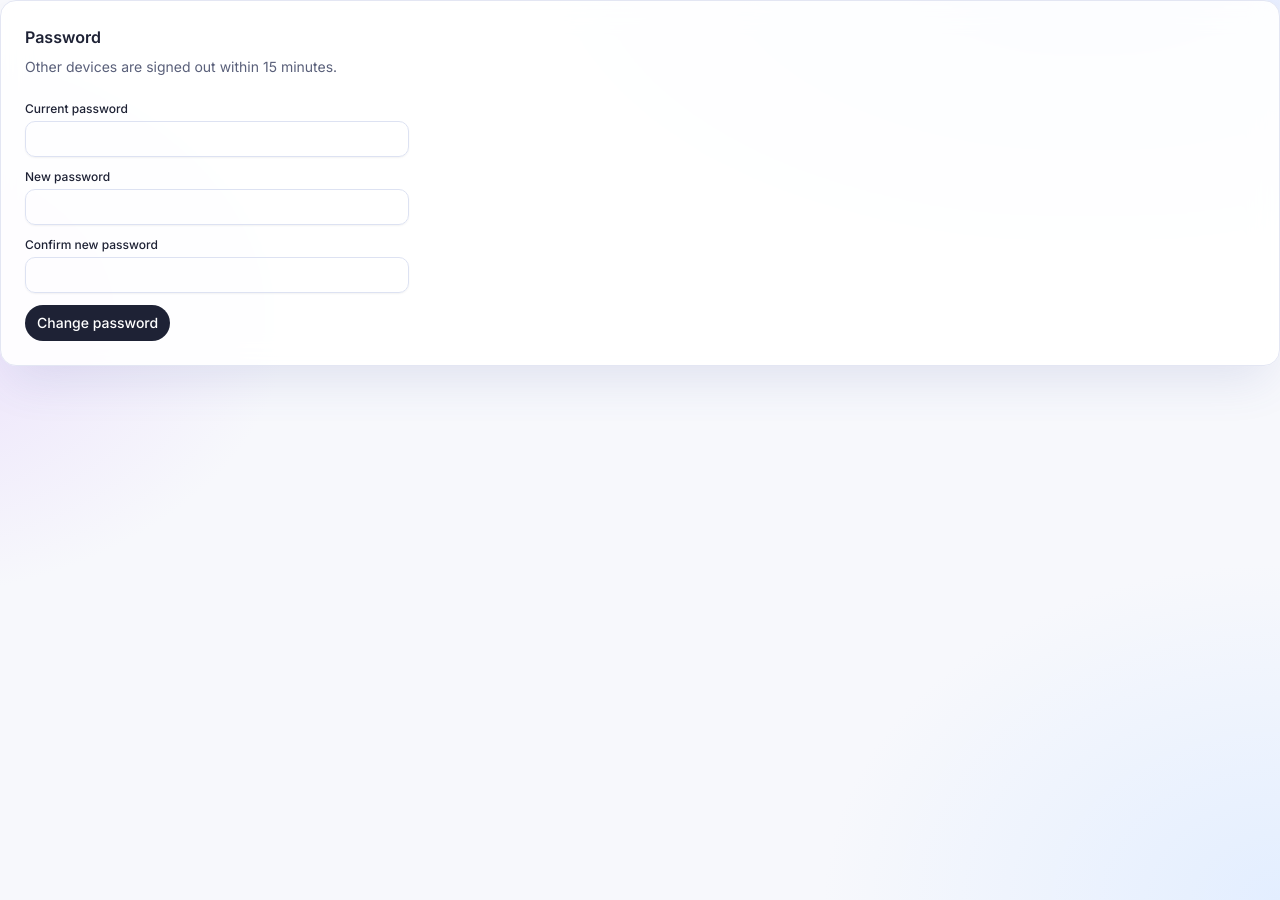
Test: PasswordCard › validates locally before sending (new-password-12)
Type "old-password-1" into the password field labelled "Current password".
click(217, 139); type("old-password-1")  # box x1=25 y1=121 x2=409 y2=157
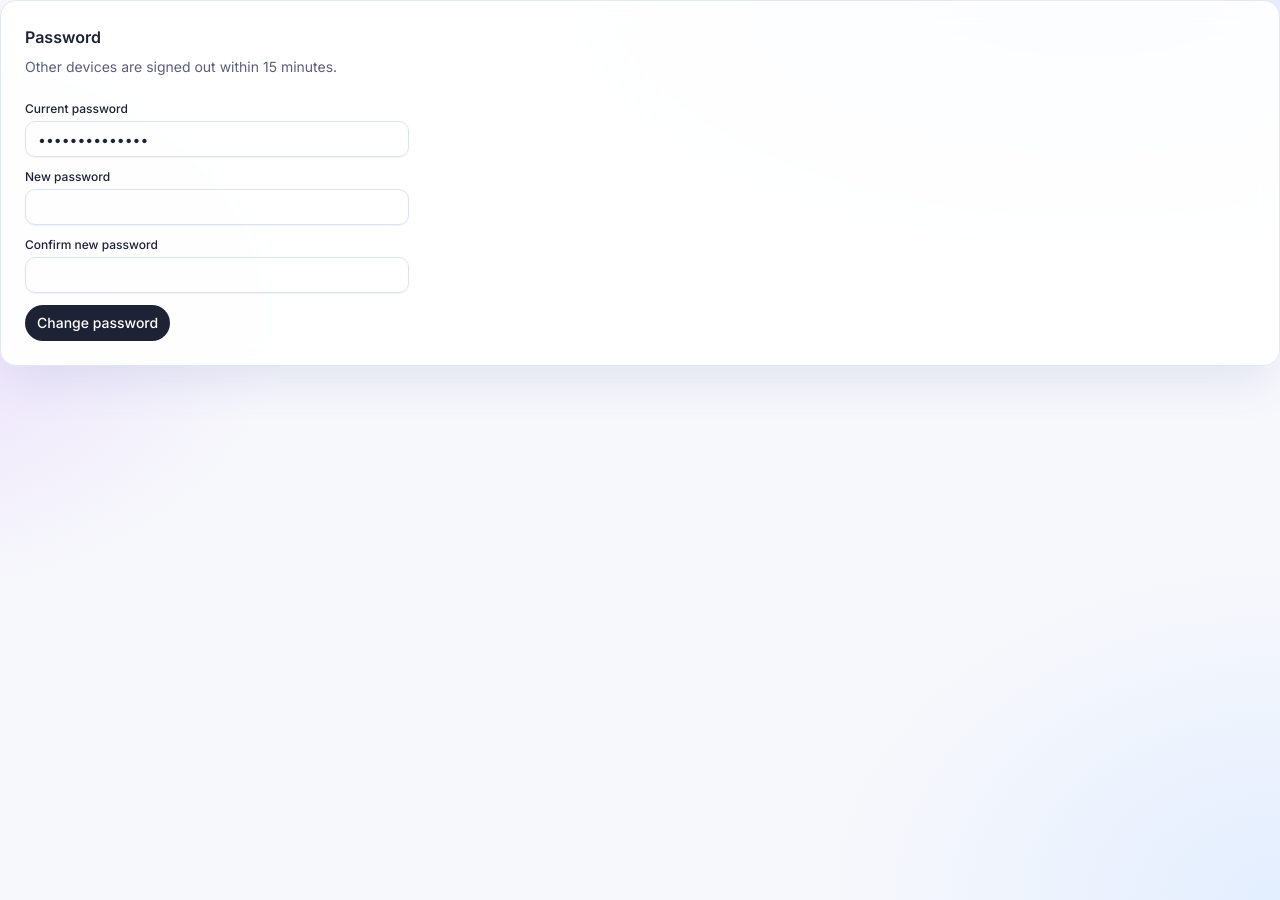
Type "new-password-12" into the password field labelled "New password".
click(217, 207); type("new-password-12")  # box x1=25 y1=189 x2=409 y2=225
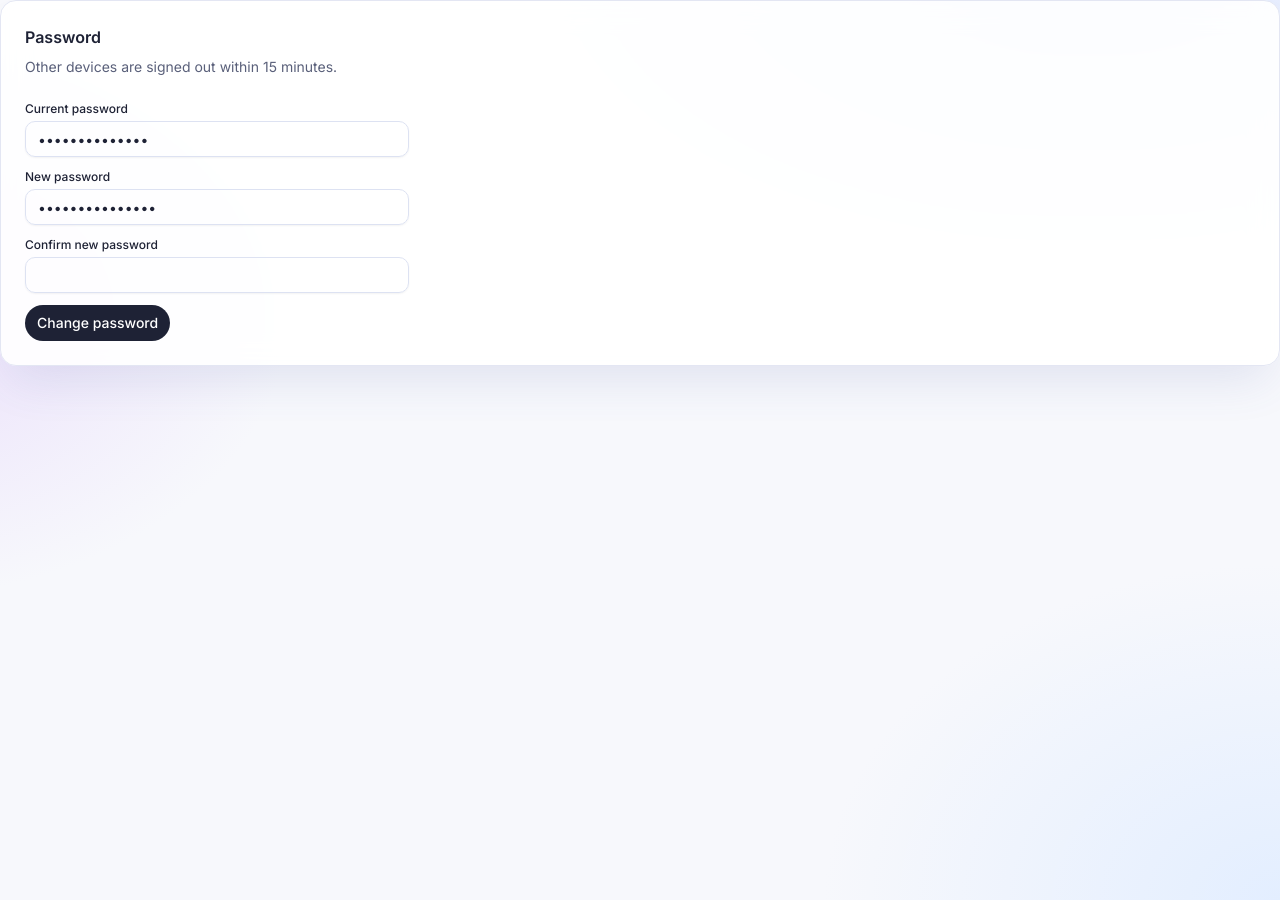
Type "new-password-13" into the password field labelled "Confirm new password".
click(217, 275); type("new-password-13")  # box x1=25 y1=257 x2=409 y2=293
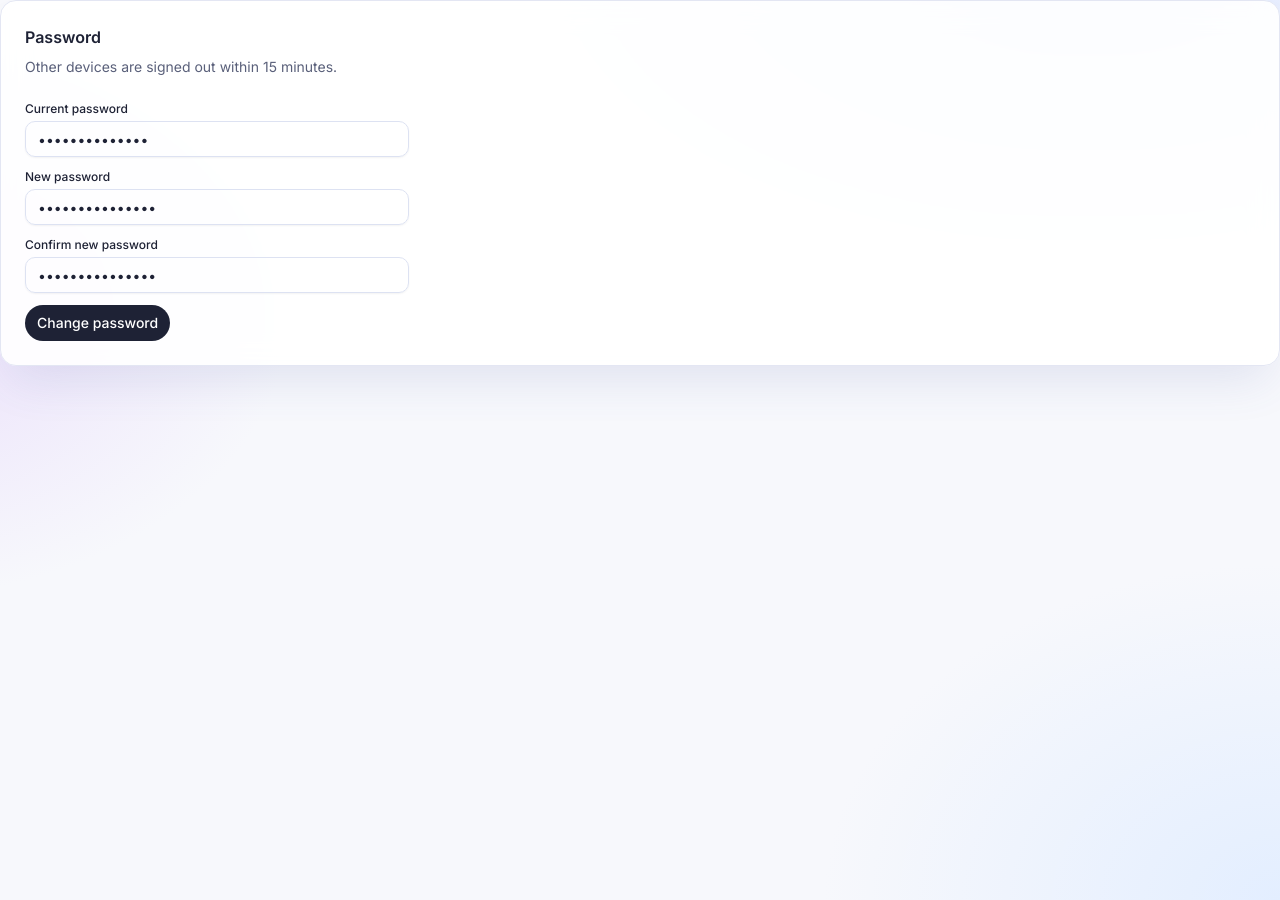
Click the button "Change password".
click(98, 323)  # box x1=25 y1=305 x2=170 y2=341
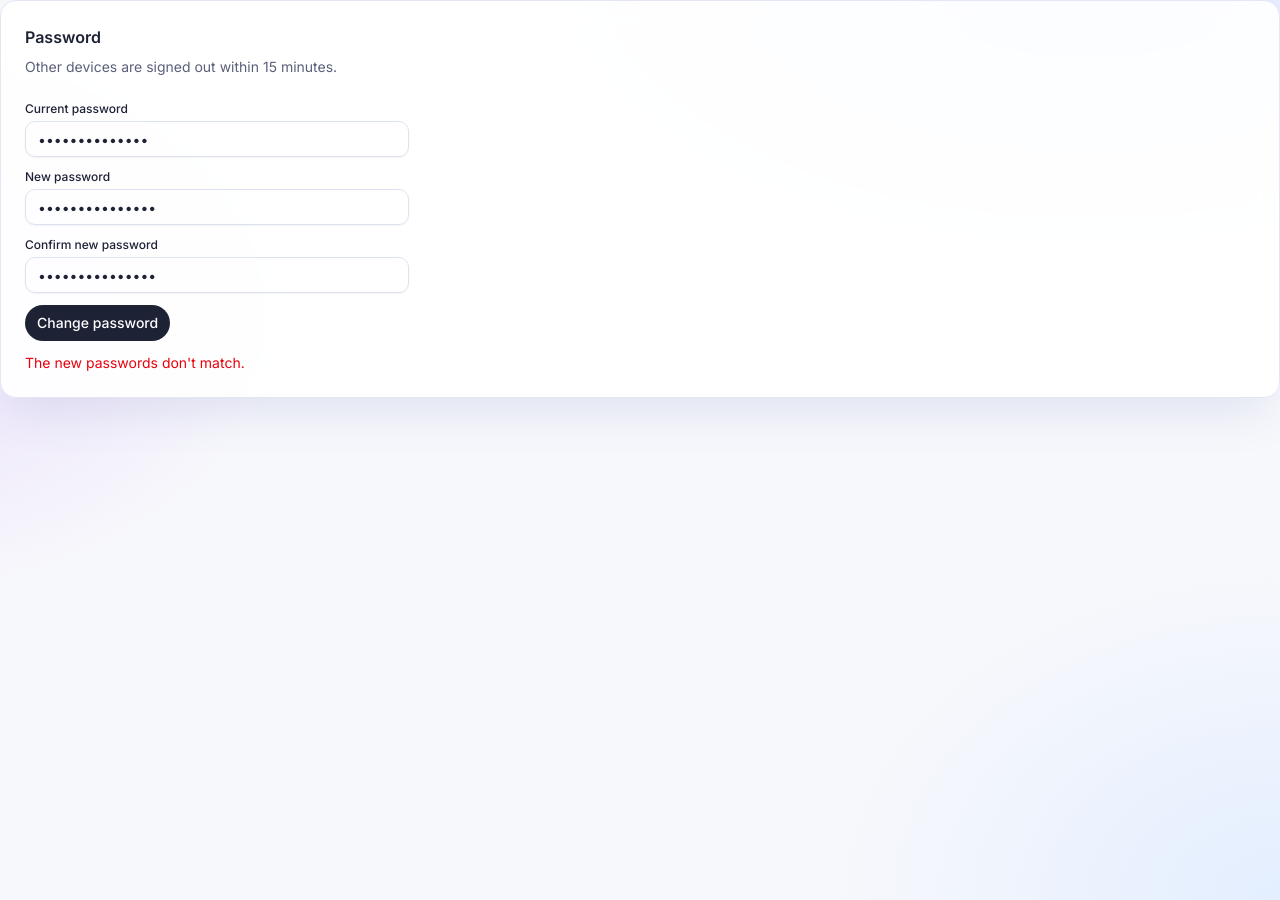
Expected: the message reads "The new passwords don't match.", x1=25 y1=354 x2=245 y2=371
